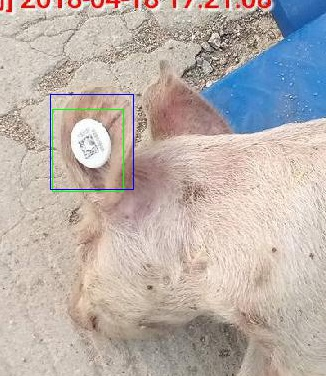text: (52, 109, 123, 191)
